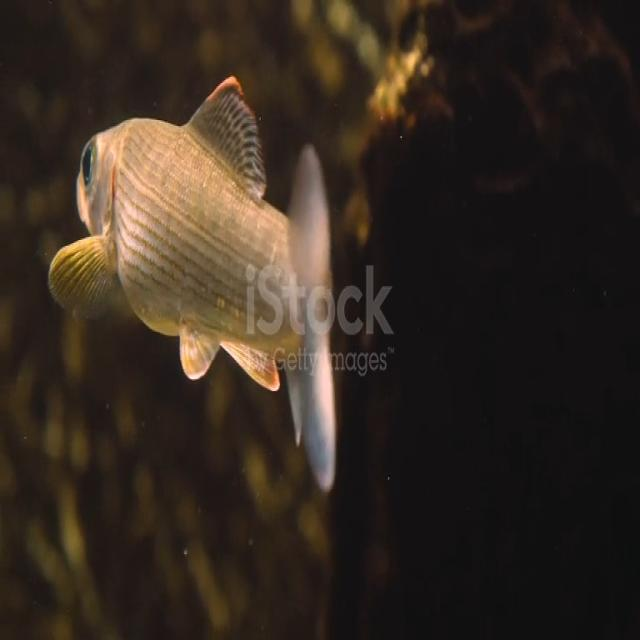fish: (50, 73, 336, 502)
